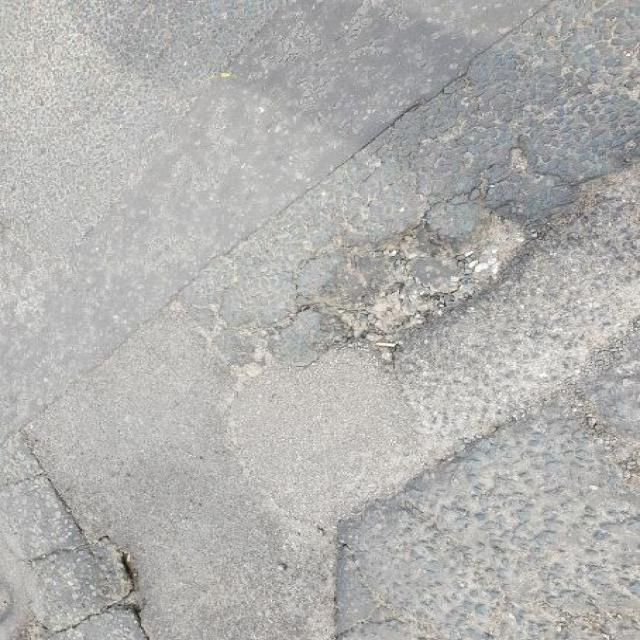pothole: (275, 181, 554, 368)
